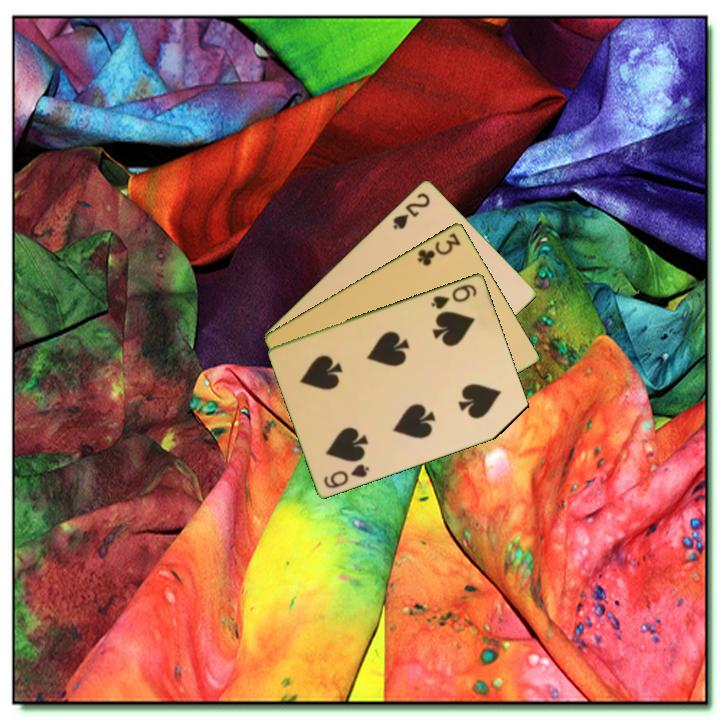2s: (389, 189, 433, 232)
3c: (414, 229, 464, 269)
6s: (428, 280, 480, 312), (320, 460, 373, 491)
